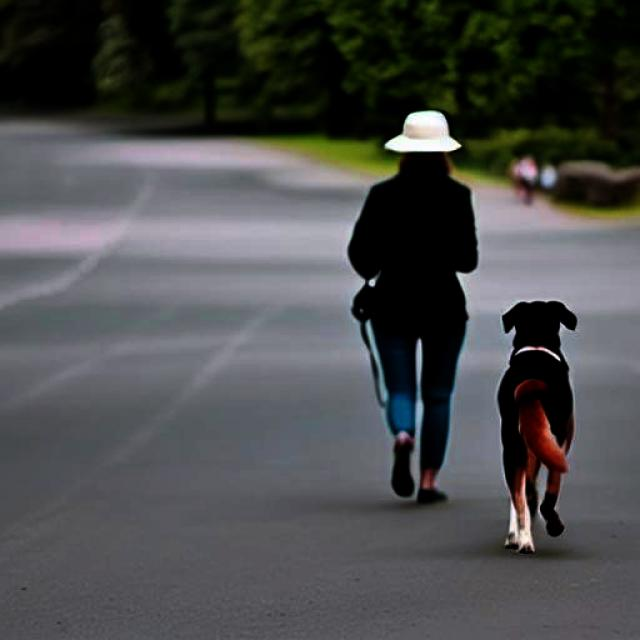Unleashed_Dog: (384, 270, 577, 555)
